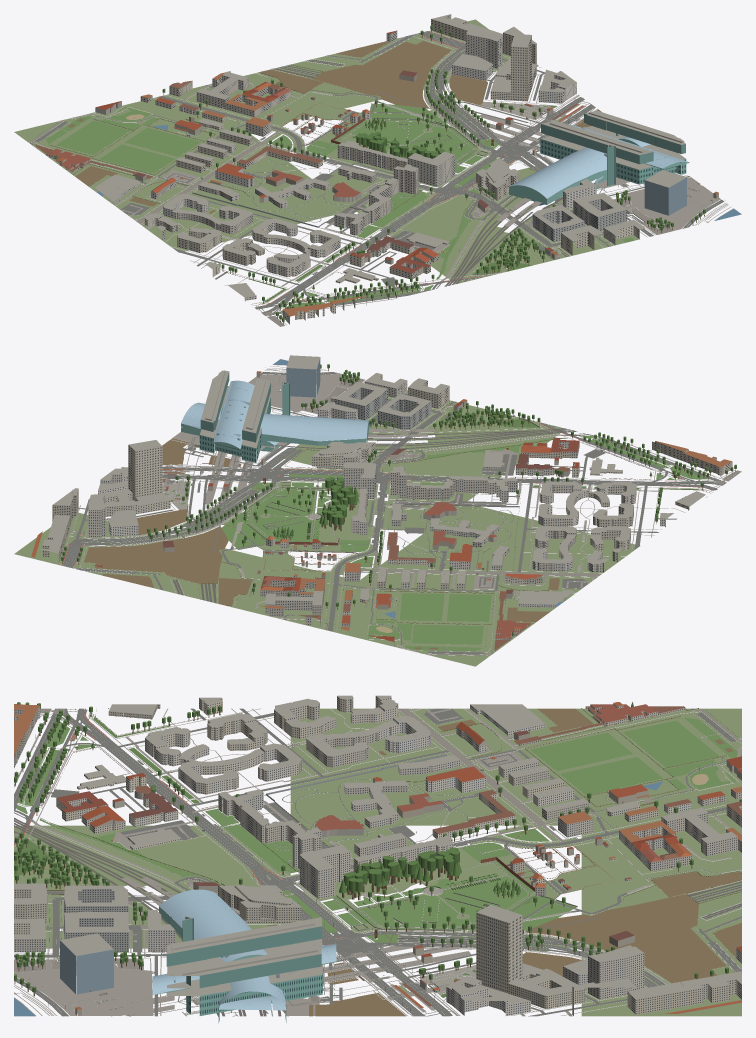
3 renders of one model, top to bottom at view 1: azimuth 30°, elevation 25°; view 2: azimuth 150°, elevation 25°; view 3: azimuth 270°, elevation 25°, orthographic. The views are drawn at different scales.
Bounding box in the file's own units: 750 × 92.3 × 750.
3 materials, 1 textured.
